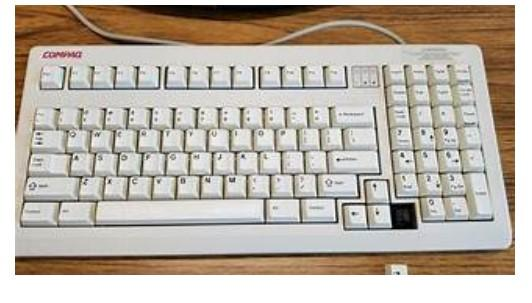Keyboard: (14, 44, 514, 257)
